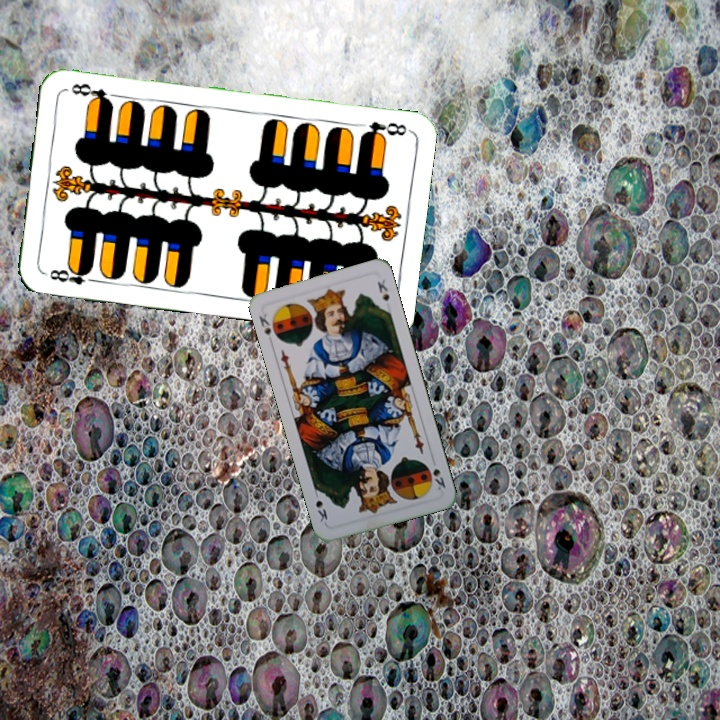E8: (41, 262, 100, 287), (357, 117, 411, 142)
SK: (255, 310, 282, 347), (429, 464, 448, 493)
